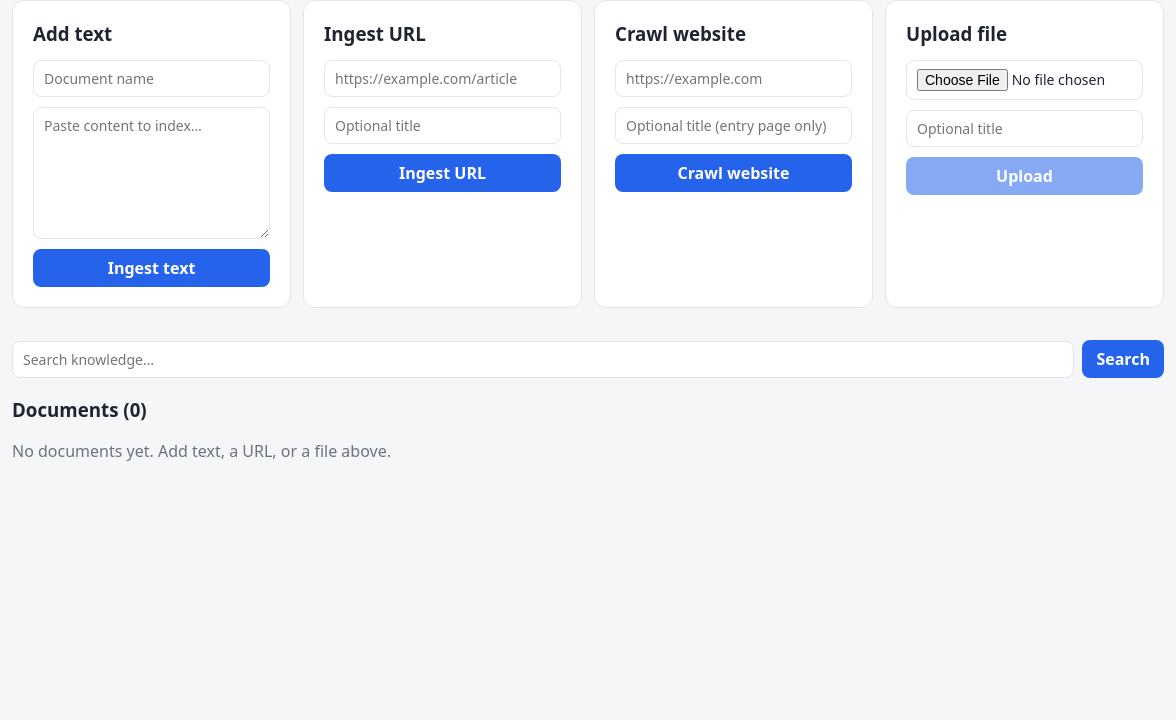
KnowledgePage › reloads the document list after a failed ingestion, not just a successful one
Check: the text "No documents yet. Add text, a URL, or a file above." is shown, box [12,440,391,462]
Type "Notes" into the field with placeholder "Document name" at [152, 78], box [33,60,270,97]
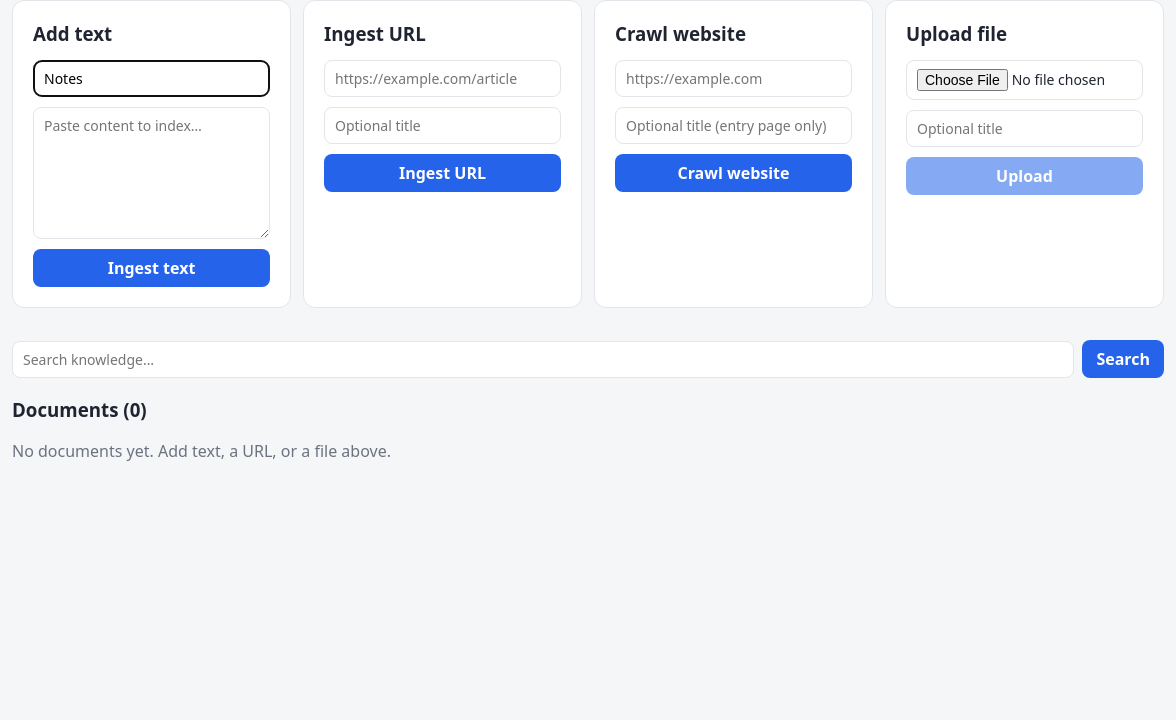
Type "hello world" into the text box with placeholder "Paste content to index…" at [152, 173], box [33,107,270,239]
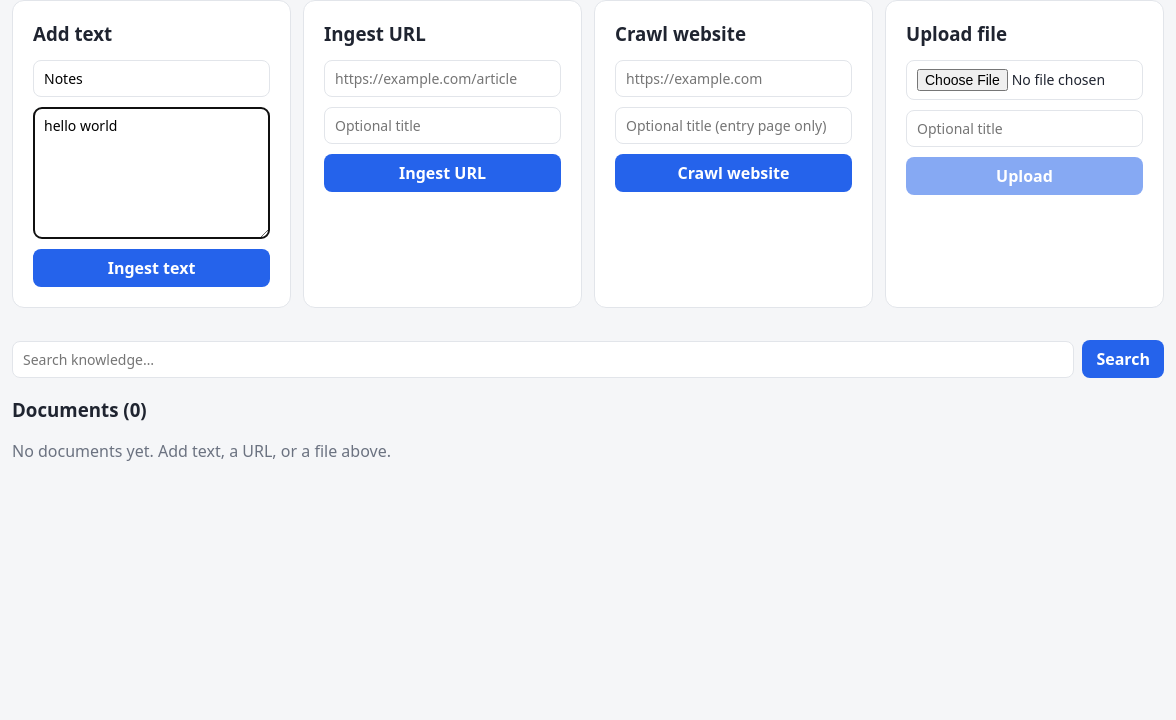
Click the button "Ingest text" at [152, 268], box [33,249,270,287]
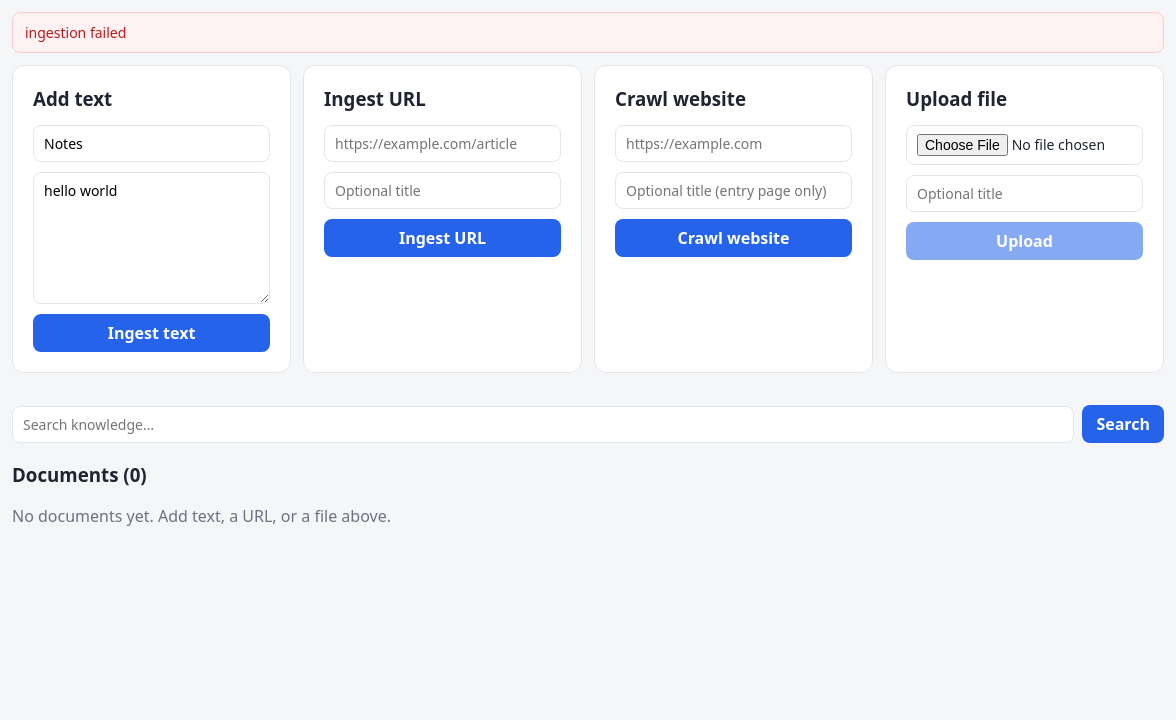
Check: the text "ingestion failed" is shown, box [12,12,1164,53]
